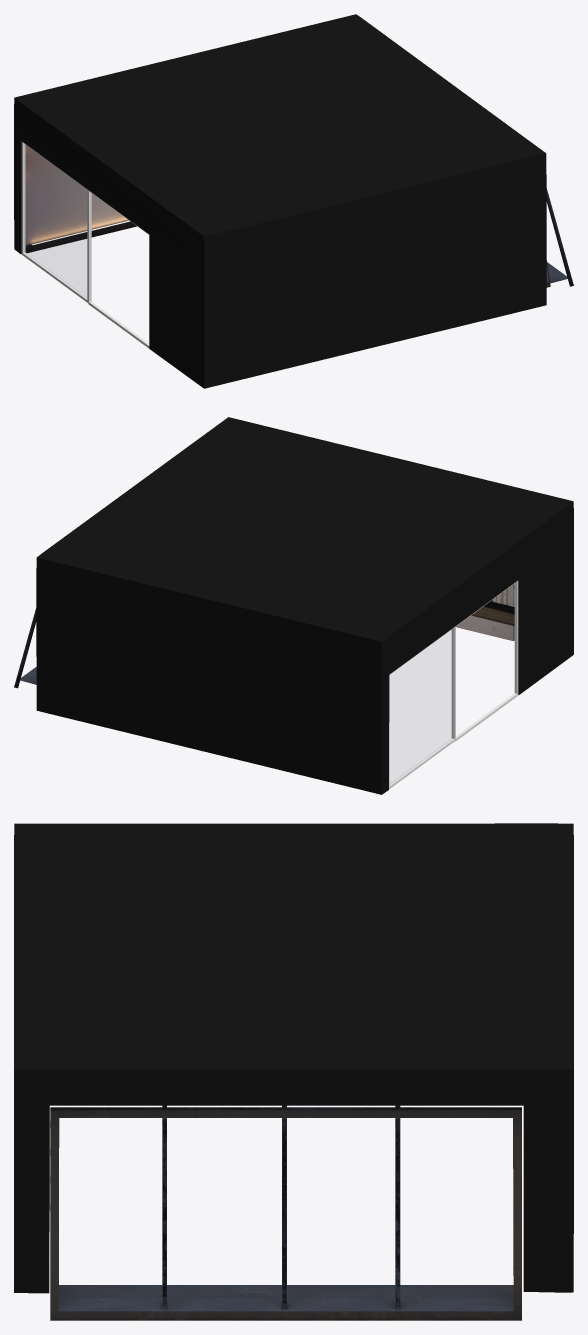
The picture shows the model from 3 angles, top to bottom: view 1: azimuth 30°, elevation 25°; view 2: azimuth 150°, elevation 25°; view 3: azimuth 270°, elevation 25°; orthographic projection. The views are drawn at different scales.
Parts seen in each view (by area): view 1: mur ext_noir_0, bureaux_murs, cadre; view 2: mur ext_noir_0, bureaux_murs, cadre; view 3: mur ext_noir_0, bureaux_murs.
Boxes of the visible parts, x1,y1,x2,y2 form: mur ext_noir_0: [14, 14, 546, 388]; bureaux_murs: [25, 145, 573, 287]; cadre: [21, 141, 149, 348]; mur ext_noir_0: [36, 417, 573, 794]; bureaux_murs: [14, 584, 514, 688]; cadre: [389, 580, 518, 789]; mur ext_noir_0: [14, 823, 573, 1293]; bureaux_murs: [49, 1105, 521, 1320].
Bounding box in the file's own units: 12.41 × 4.75 × 10.69.
5 materials, 1 textured.
